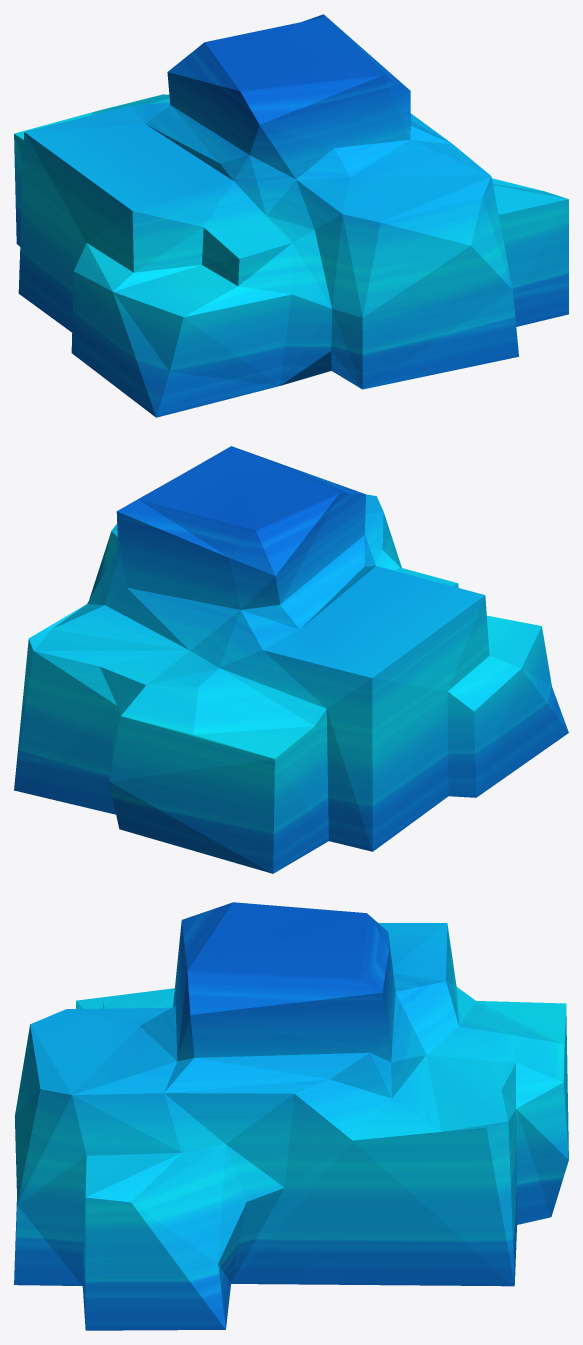
The model's file is Crystal3.obj.
The picture shows the model from 3 angles, top to bottom: view 1: azimuth 30°, elevation 25°; view 2: azimuth 150°, elevation 25°; view 3: azimuth 270°, elevation 25°; orthographic projection. The views are drawn at different scales.
Visible parts, largest first — view 1: obj1; view 2: obj1; view 3: obj1.
Boxes of the visible parts, box(x1,y1,x2,y2) form: obj1: box(14, 14, 568, 417); obj1: box(14, 446, 568, 873); obj1: box(14, 902, 568, 1330).
Size of the model in its own units: 3.82 by 2.13 by 3.81.
1 material, 1 textured.
